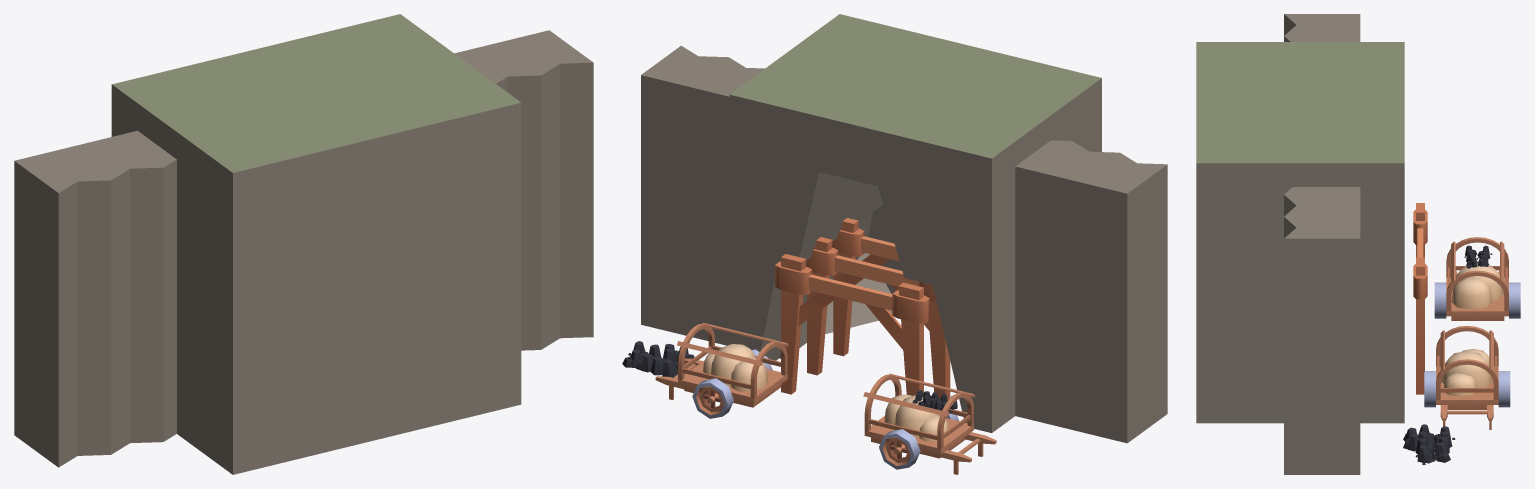
File: london_workshop_coal.glb
3 renders of one model, left to right at view 1: azimuth 30°, elevation 25°; view 2: azimuth 150°, elevation 25°; view 3: azimuth 270°, elevation 25°, orthographic. The views are drawn at different scales.
Visible parts, largest first — view 1: cliff_blockCave_rock, cliff_large_rock (×2); view 2: cliff_blockCave_rock, cliff_large_rock (×2), wood-support (×3), cart-high (×2), Group (×2); view 3: cliff_blockCave_rock, cliff_large_rock (×2), cart-high (×2), wood-support, Group (×4).
Boxes of the visible parts, bbox=[...] form: cliff_blockCave_rock: bbox=[111, 14, 521, 474]; cliff_large_rock (×2): bbox=[14, 30, 593, 467]; cliff_blockCave_rock: bbox=[729, 14, 1101, 432]; cliff_large_rock (×2): bbox=[641, 45, 1167, 443]; wood-support (×3): bbox=[775, 218, 950, 400]; cart-high (×2): bbox=[655, 322, 996, 474]; Group (×2): bbox=[692, 378, 920, 469]; cliff_blockCave_rock: bbox=[1196, 42, 1404, 423]; cliff_large_rock (×2): bbox=[1284, 14, 1360, 474]; cart-high (×2): bbox=[1436, 237, 1508, 429]; wood-support: bbox=[1413, 203, 1427, 394]; Group (×4): bbox=[1424, 282, 1520, 407].
Size of the model in its own units: 20.4 by 11 by 12.45.
Materials: 6 (3 with a texture image).
